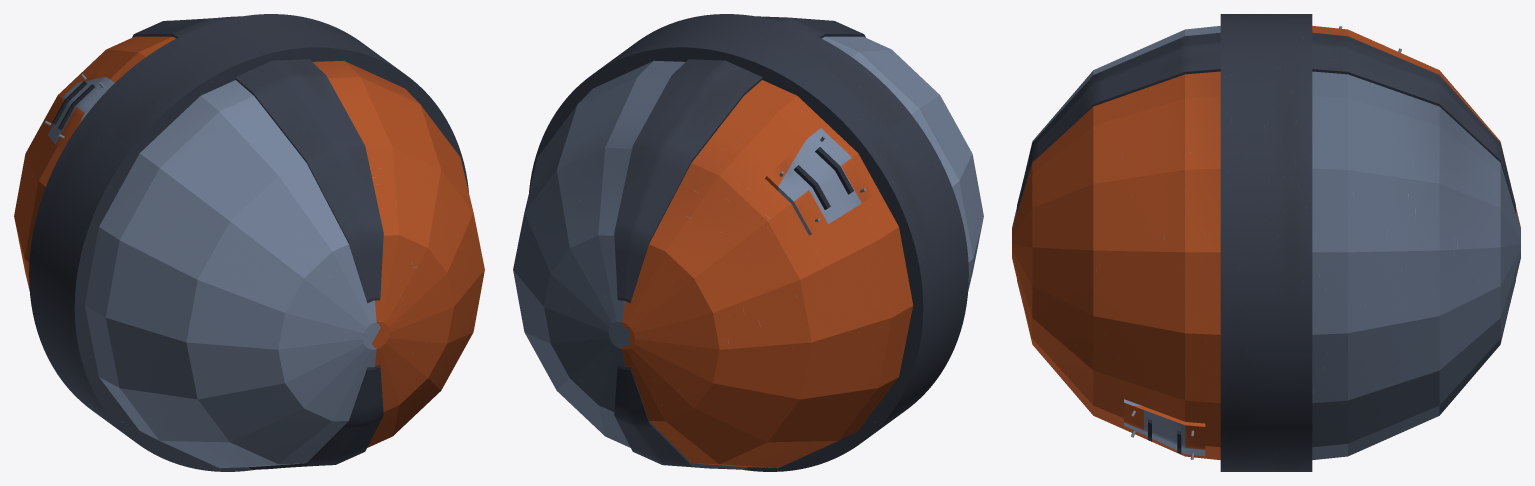
3 views of the same model, side by side, from view 1: azimuth 30°, elevation 25°; view 2: azimuth 150°, elevation 25°; view 3: azimuth 270°, elevation 25° (orthographic).
Visible parts, largest first — view 1: Artemian Demon forward metal shell, Artemian Demon blue grey transverse belt, Artemian Demon blue grey longitudinal strap 1, Artemian Demon rear metal shell, Artemian Demon blue grey longitudinal strap 0, Artemian Demon service cover 1, Artemian Demon blue grey longitudinal strap 3; view 2: Artemian Demon rear metal shell, Artemian Demon blue grey transverse belt, Artemian Demon blue grey longitudinal strap 3, Artemian Demon forward metal shell, Artemian Demon service cover 1, Artemian Demon blue grey longitudinal strap 2, Artemian Demon blue grey longitudinal strap 1; view 3: Artemian Demon rear metal shell, Artemian Demon forward metal shell, Artemian Demon blue grey transverse belt, Artemian Demon blue grey longitudinal strap 1, Artemian Demon blue grey longitudinal strap 3, Artemian Demon service cover 0.
Boxes of the visible parts, left/top/right/bottom form: Artemian Demon forward metal shell: left=84, top=60, right=484, bottom=468; Artemian Demon blue grey transverse belt: left=29, top=14, right=468, bottom=471; Artemian Demon blue grey longitudinal strap 1: left=235, top=59, right=383, bottom=303; Artemian Demon rear metal shell: left=14, top=36, right=175, bottom=290; Artemian Demon blue grey longitudinal strap 0: left=249, top=364, right=383, bottom=469; Artemian Demon service cover 1: left=44, top=72, right=114, bottom=149; Artemian Demon blue grey longitudinal strap 3: left=132, top=16, right=241, bottom=38; Artemian Demon rear metal shell: left=513, top=60, right=913, bottom=468; Artemian Demon blue grey transverse belt: left=529, top=14, right=968, bottom=471; Artemian Demon blue grey longitudinal strap 3: left=614, top=59, right=762, bottom=303; Artemian Demon forward metal shell: left=822, top=36, right=983, bottom=290; Artemian Demon service cover 1: left=765, top=128, right=872, bottom=235; Artemian Demon blue grey longitudinal strap 2: left=614, top=364, right=748, bottom=469; Artemian Demon blue grey longitudinal strap 1: left=756, top=16, right=865, bottom=38; Artemian Demon rear metal shell: left=1312, top=26, right=1520, bottom=459; Artemian Demon forward metal shell: left=1012, top=26, right=1220, bottom=459; Artemian Demon blue grey transverse belt: left=1220, top=14, right=1312, bottom=471; Artemian Demon blue grey longitudinal strap 1: left=1017, top=32, right=1220, bottom=213; Artemian Demon blue grey longitudinal strap 3: left=1312, top=32, right=1515, bottom=213; Artemian Demon service cover 0: left=1124, top=399, right=1205, bottom=456.
Bounding box in the file's own units: 0.9 × 0.9 × 1.
Materials: 5 (3 with a texture image).
